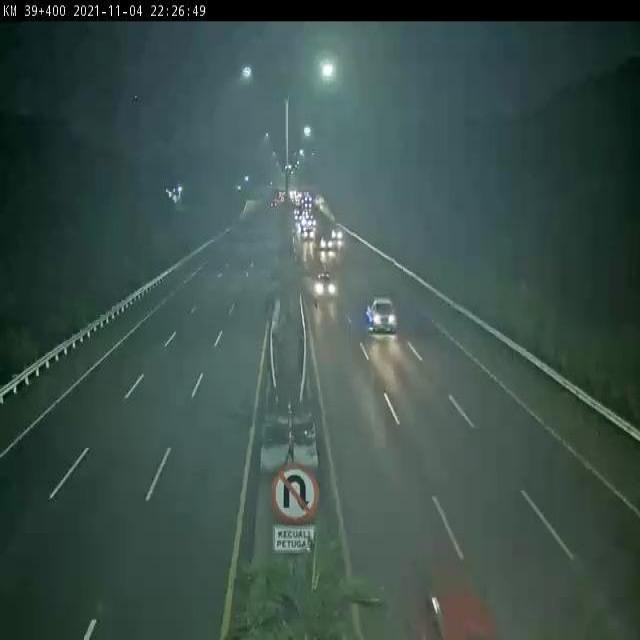car: (399, 569, 530, 640), (303, 271, 352, 305)
truck-m-: (357, 281, 410, 347)
